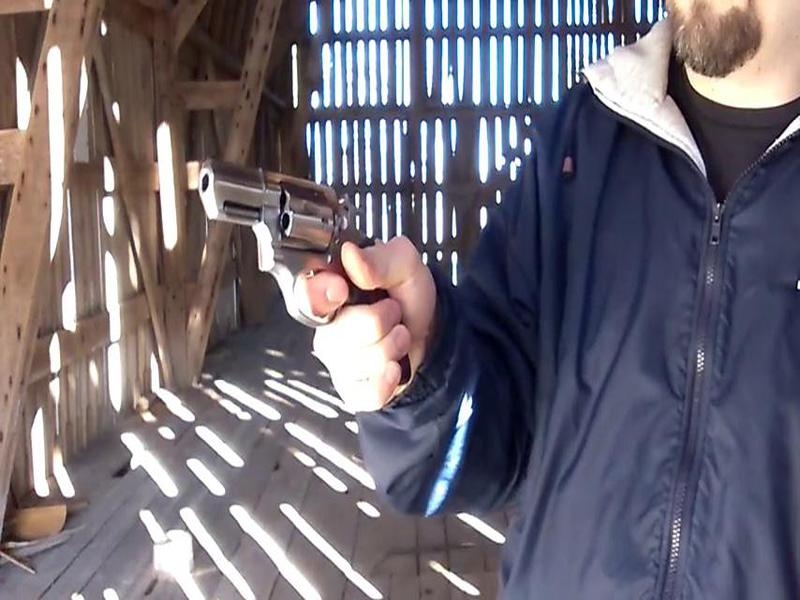Revolver: (189, 125, 430, 380)
